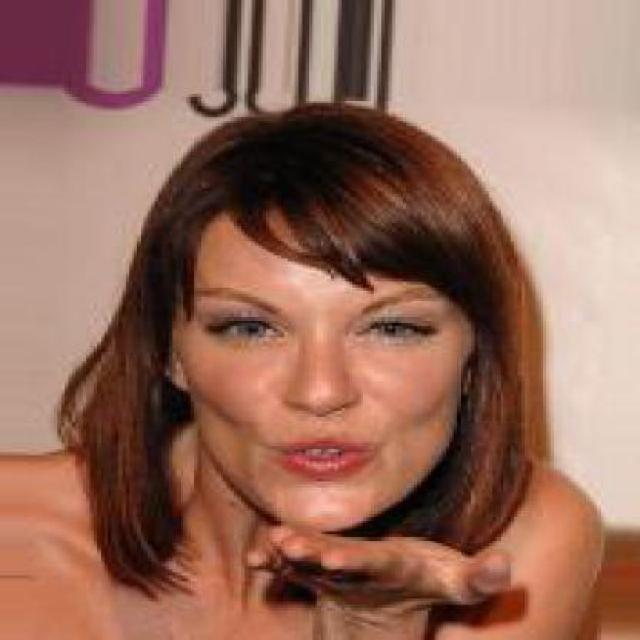closed-mouth: (260, 430, 386, 481)
